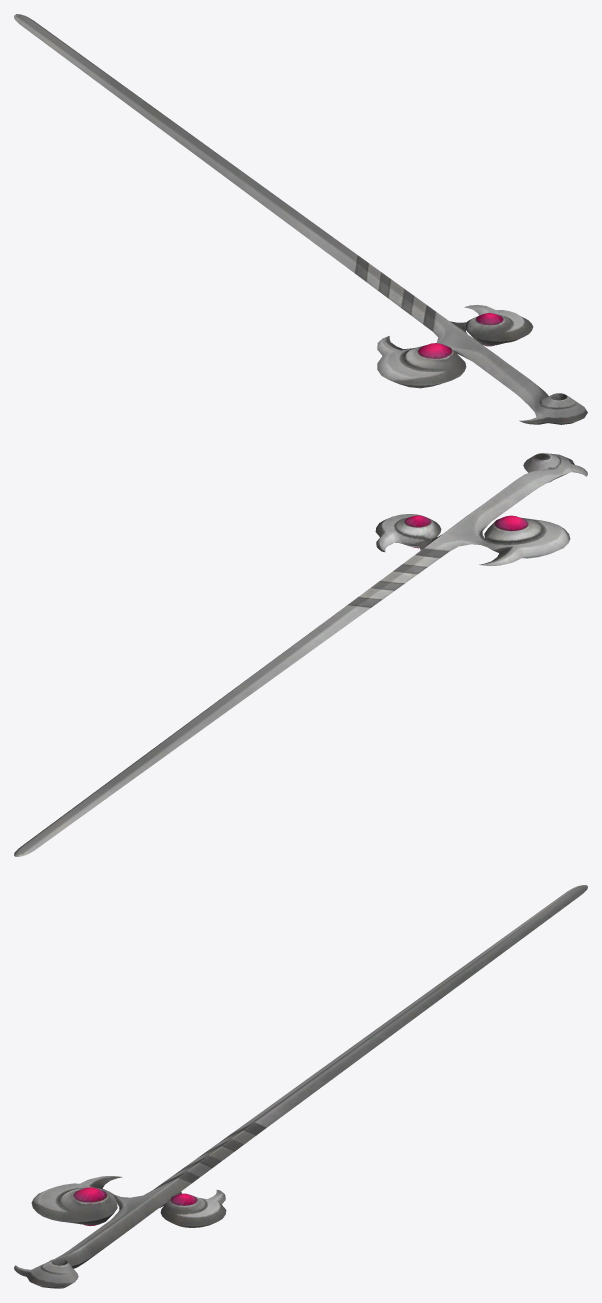
File: ww_wand.glb
The picture shows the model from 3 angles, top to bottom: view 1: azimuth 30°, elevation 25°; view 2: azimuth 150°, elevation 25°; view 3: azimuth 330°, elevation 25°; orthographic projection.
Parts seen in each view (by area): view 1: wind_waker_reference_Mat_0; view 2: wind_waker_reference_Mat_0; view 3: wind_waker_reference_Mat_0.
Boxes of the visible parts, x1,y1,x2,y2 form: wind_waker_reference_Mat_0: [14, 14, 587, 424]; wind_waker_reference_Mat_0: [14, 453, 587, 856]; wind_waker_reference_Mat_0: [14, 885, 587, 1288].
Bounding box in the file's own units: 49.78 × 10.16 × 288.
1 material, 1 textured.
